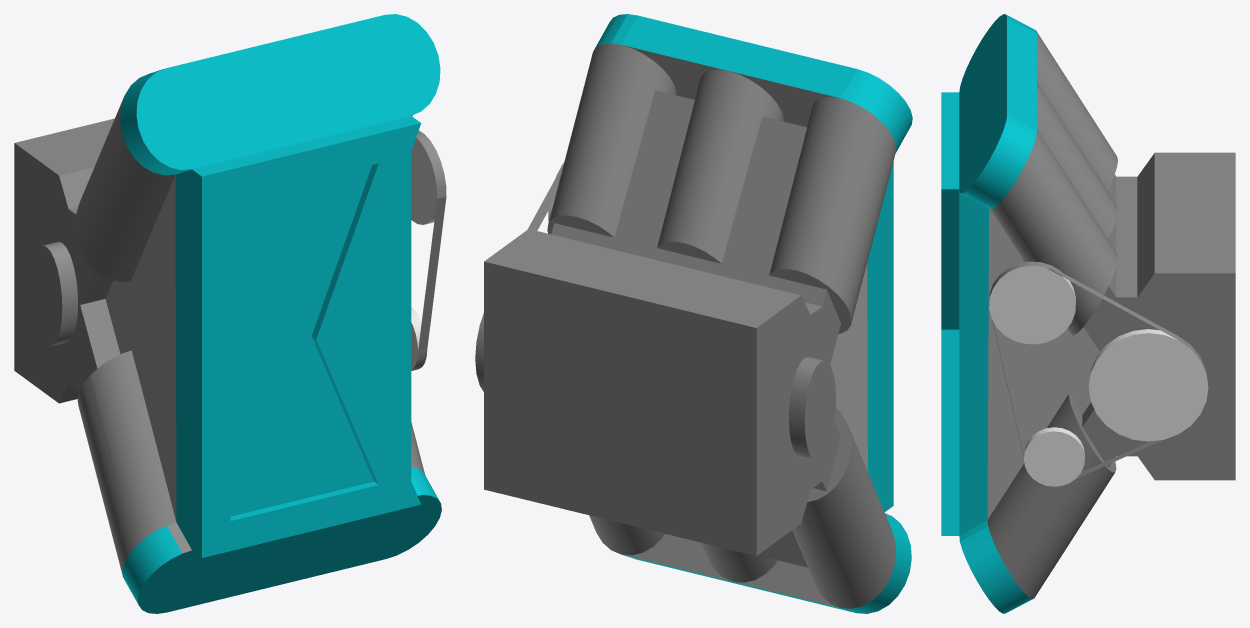
Rendered from Car_engine_new.dae.
3 renders of one model, left to right at view 1: azimuth 30°, elevation 25°; view 2: azimuth 150°, elevation 25°; view 3: azimuth 270°, elevation 25°, orthographic. The views are drawn at different scales.
Parts seen in each view (by area): view 1: instance_0_008, instance_0_012, instance_0_018, instance_0, instance_0_028, instance_0_010, instance_0_013, instance_0_005, instance_0_011, instance_0_004; view 2: instance_0_018, instance_0_010, instance_0_008, instance_0, instance_0_028, instance_0_013; view 3: instance_0_008, instance_0_018, instance_0_010, instance_0_029, instance_0_002, instance_0, instance_0_005, instance_0_003, instance_0_019.
Boxes of the visible parts, x1,y1,x2,y2 form: instance_0_008: (120, 14, 441, 613); instance_0_012: (230, 163, 378, 520); instance_0_018: (14, 118, 120, 403); instance_0: (77, 350, 424, 576); instance_0_028: (105, 175, 176, 520); instance_0_010: (75, 96, 412, 281); instance_0_013: (30, 241, 78, 346); instance_0_005: (411, 137, 437, 224); instance_0_011: (418, 207, 444, 351); instance_0_004: (416, 130, 446, 208); instance_0_018: (484, 90, 840, 567); instance_0_010: (547, 43, 896, 333); instance_0_008: (594, 14, 912, 613); instance_0: (589, 408, 895, 608); instance_0_028: (830, 263, 867, 471); instance_0_013: (789, 356, 836, 460); instance_0_008: (941, 14, 1036, 613); instance_0_018: (1069, 131, 1235, 480); instance_0_010: (990, 31, 1117, 335); instance_0_029: (987, 208, 1099, 519); instance_0_002: (1088, 329, 1208, 441); instance_0: (987, 394, 1116, 598); instance_0_005: (989, 265, 1075, 344); instance_0_003: (1024, 427, 1084, 486); instance_0_019: (1063, 273, 1178, 340).
Bounding box in the file's own units: 198 × 330 × 178.
